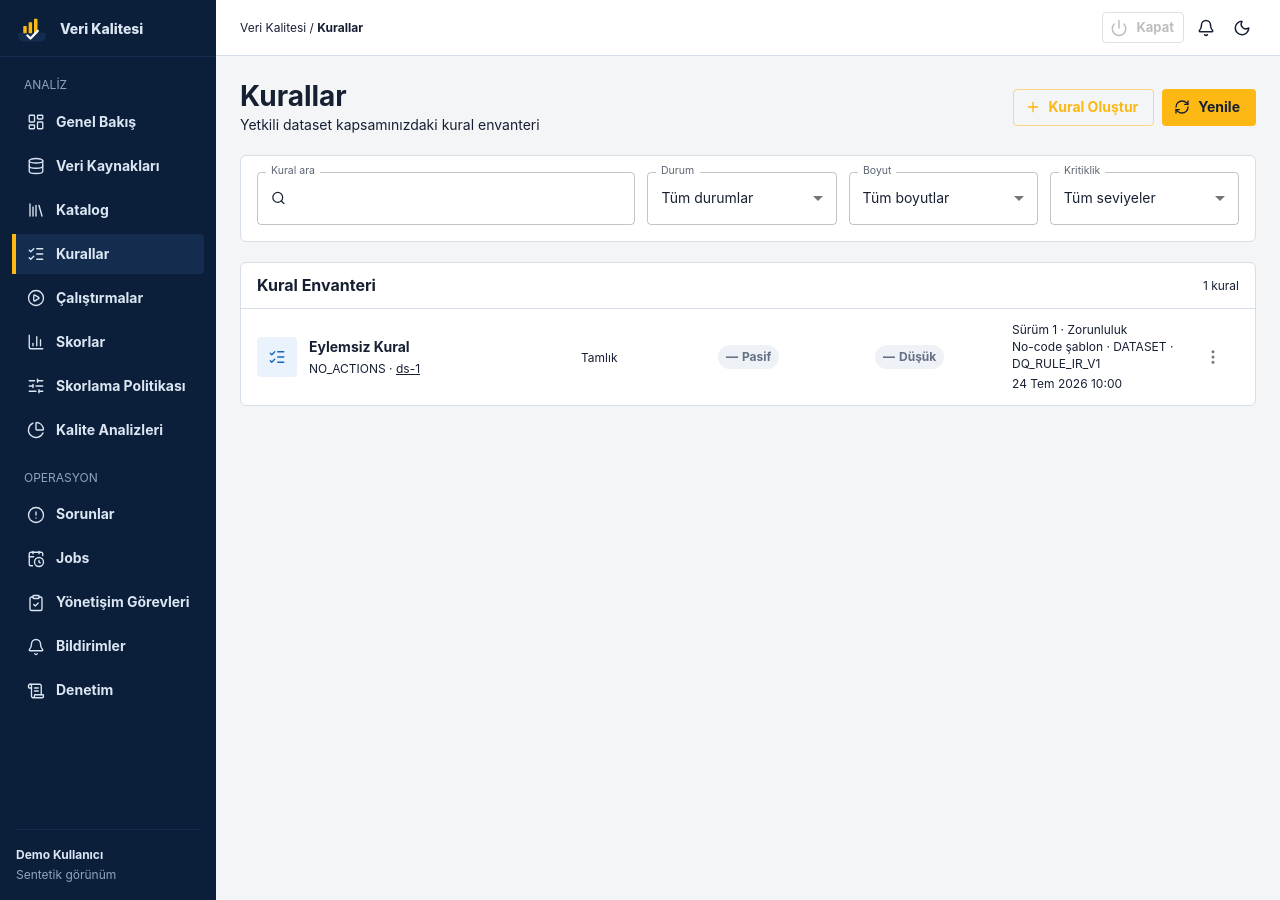
Test case: Kurallar ekranı › kullanılabilir eylemi olmayan satırda bilgi mesajı gösterir
The image size is (1280, 900).
Click the button with test id "rule-actions-trigger" at (1213, 357), box [1199,343,1227,371]
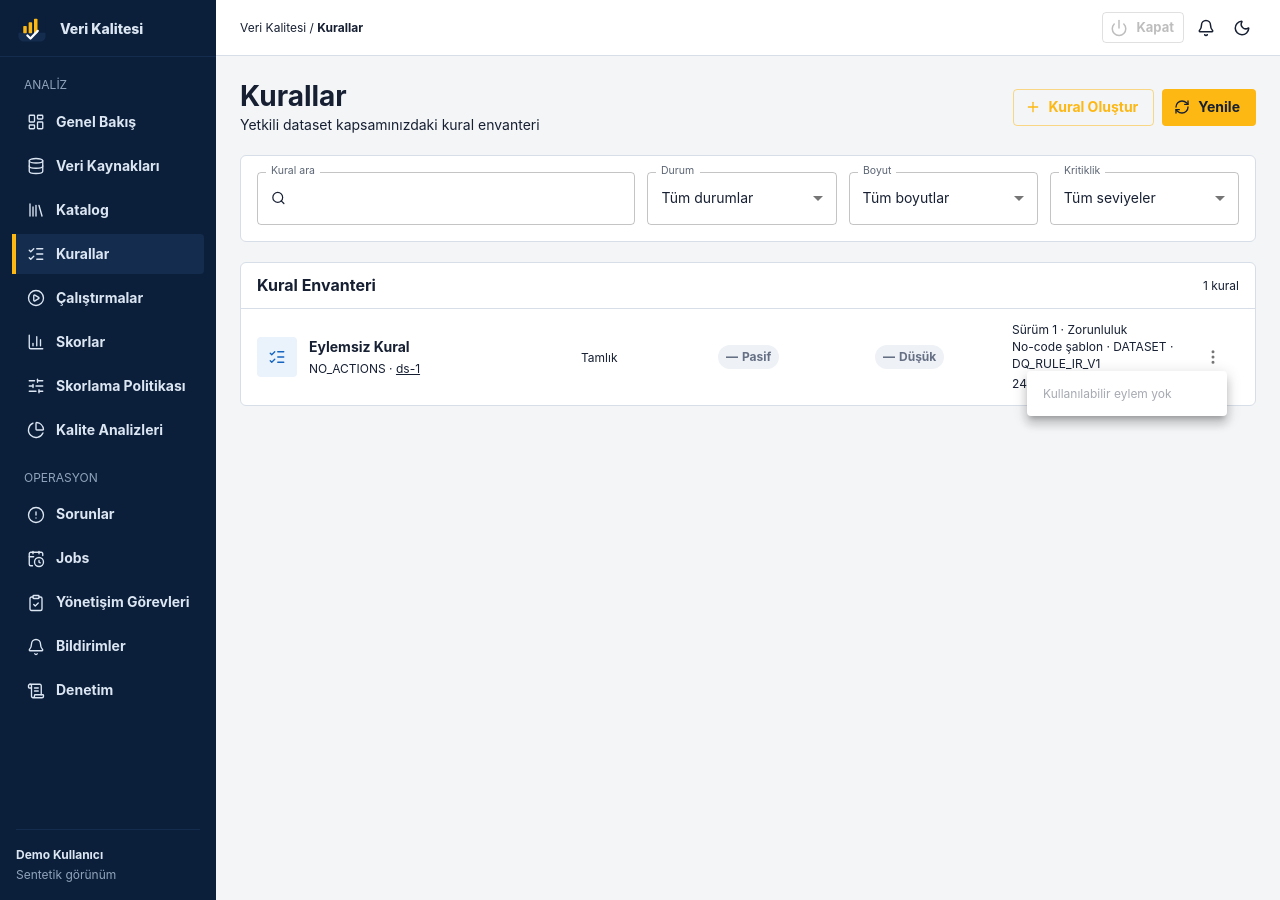
Check: the text "Kullanılabilir eylem yok" is shown, box [1043,386,1172,401]
